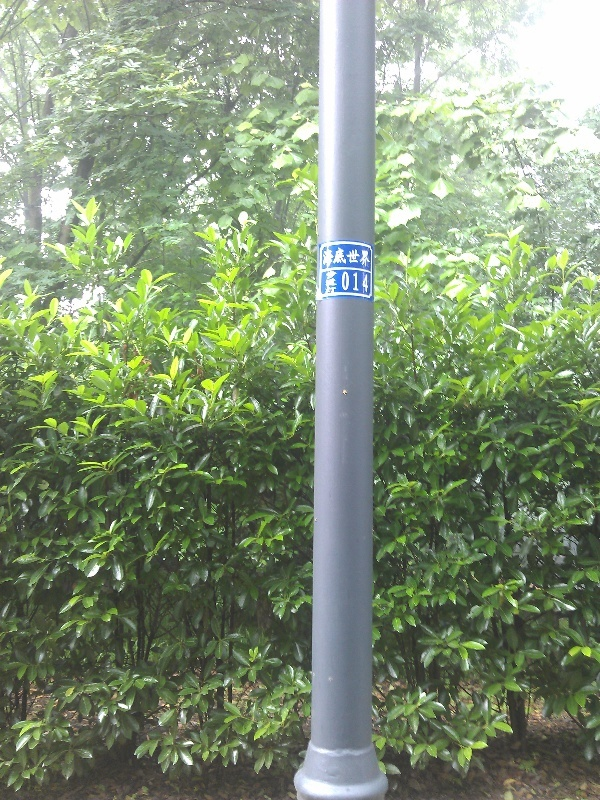text: (353, 271, 369, 293), (337, 247, 352, 268), (353, 247, 368, 268), (323, 247, 336, 268), (340, 271, 352, 293), (326, 270, 336, 294), (369, 247, 371, 268)
